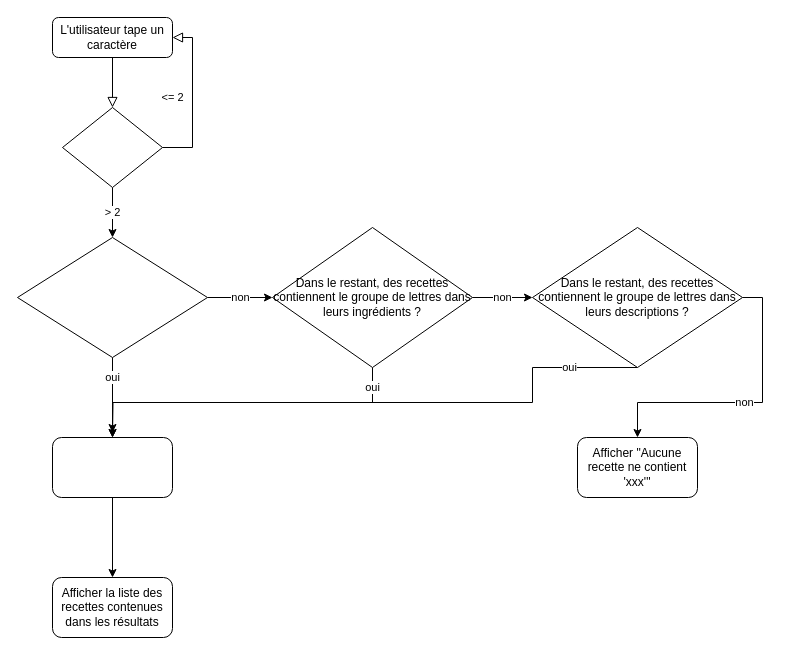
Image size: 788x655. Some labels were removed from this diagram. Each missing label, with the box of its shape:
Ajouter les recettes dans les résultats: (52, 436, 172, 498)
Des recettes contiennent le groupe de lettres dans leur s titres ?: (16, 236, 208, 358)
Nombre de lettres tapées ?: (62, 106, 162, 188)
